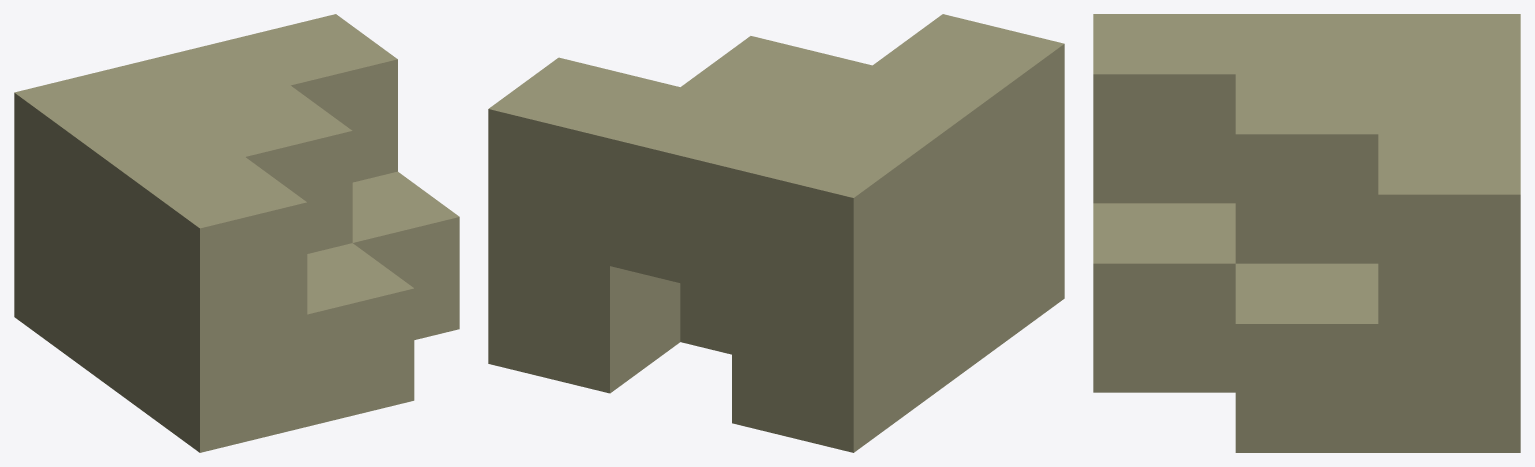
Rendered from NB_TR_F_toes1_l.fbx.
3 renders of one model, left to right at view 1: azimuth 30°, elevation 25°; view 2: azimuth 150°, elevation 25°; view 3: azimuth 270°, elevation 25°, orthographic. The views are drawn at different scales.
Visible parts, largest first — view 1: toes1_l; view 2: toes1_l; view 3: toes1_l.
Boxes of the visible parts, box(x1,y1,x2,y2) form: toes1_l: box(14, 14, 459, 452); toes1_l: box(488, 14, 1064, 452); toes1_l: box(1093, 14, 1520, 452).
Bounding box in the file's own units: 3 × 2 × 3.
Materials: 1 (1 with a texture image).
